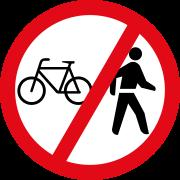Pedestrian Prohibited: (5, 4, 174, 170)
